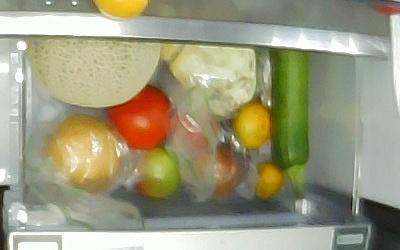cabbage: (156, 41, 257, 116)
melon: (27, 37, 160, 108)
pear_vinyl: (44, 115, 127, 193)
prune_vinyl: (174, 110, 220, 146)
tangerine: (234, 105, 271, 150), (254, 162, 282, 198)
tomato: (106, 85, 173, 148), (131, 150, 180, 198)
tomato_vinyl: (195, 147, 243, 196)
zucchini: (269, 51, 311, 197)
